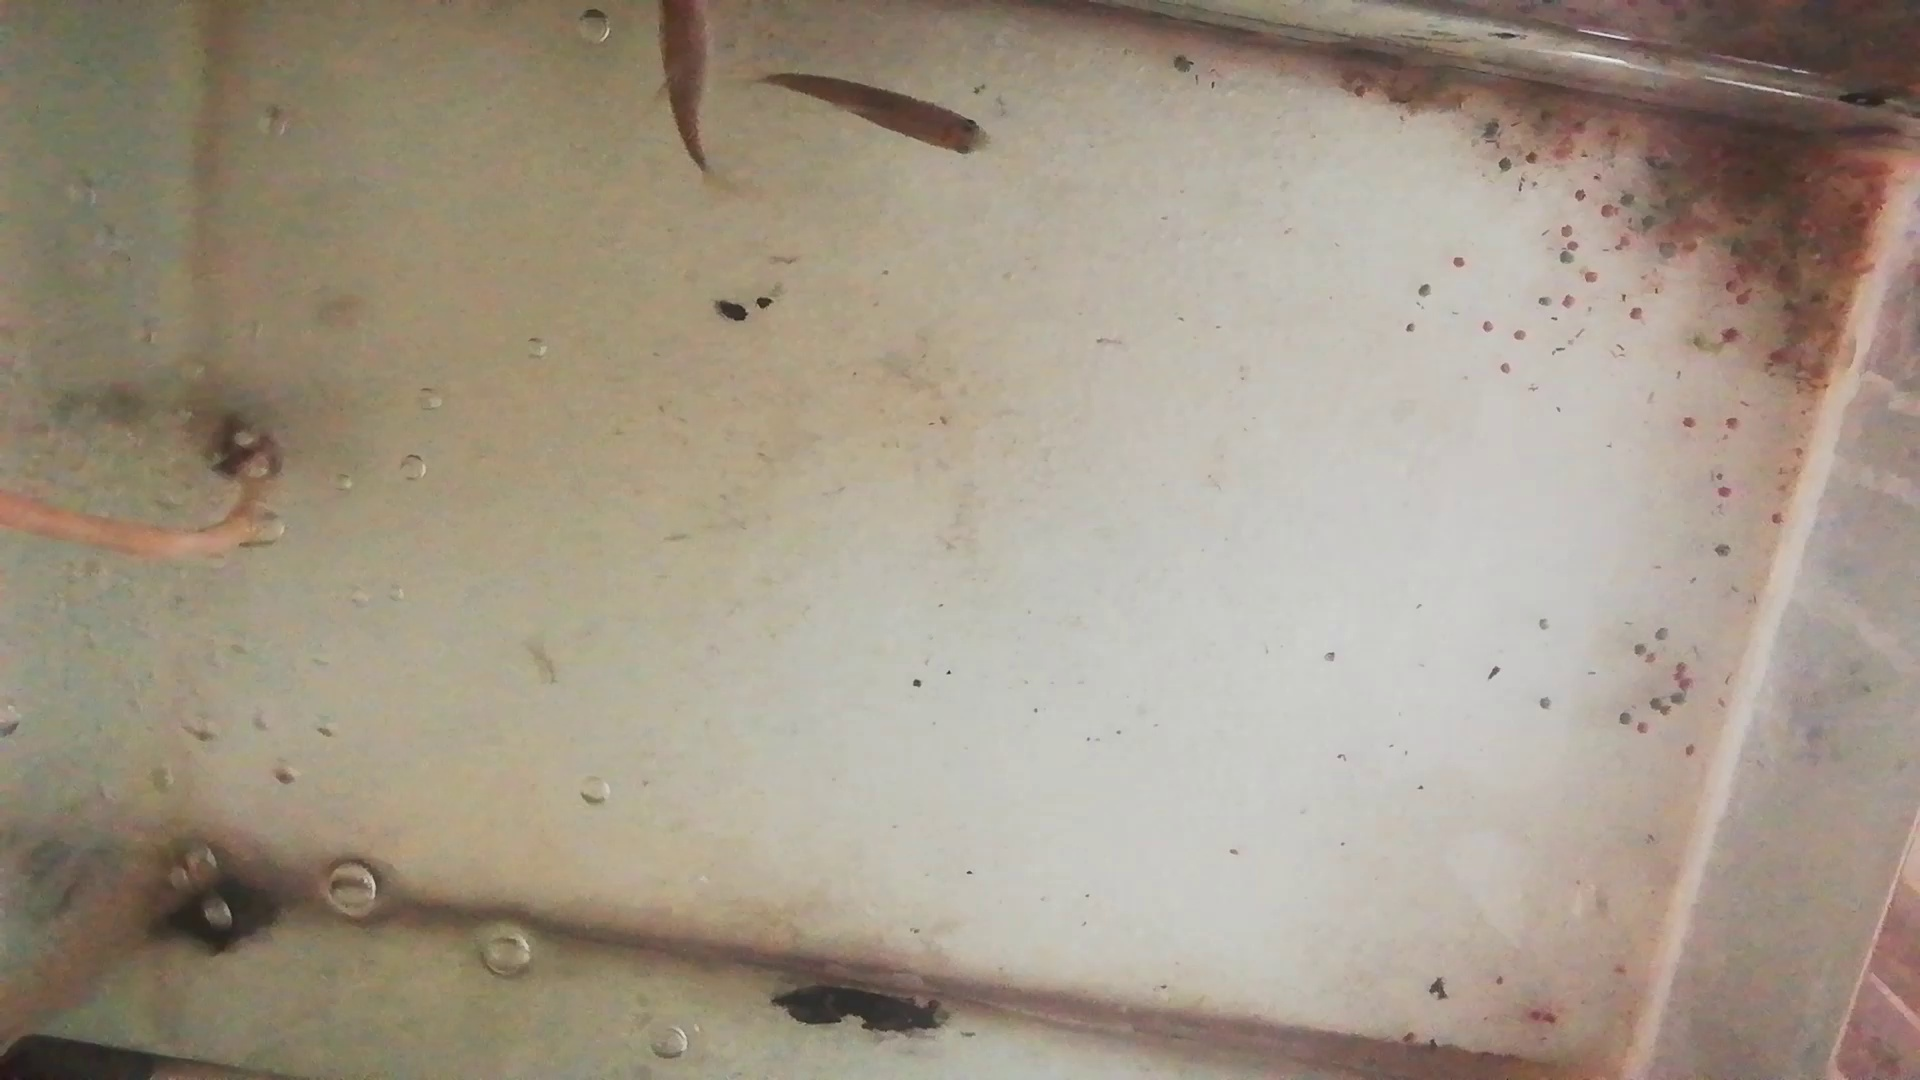fish: (761, 69, 993, 158), (657, 1, 709, 175)
